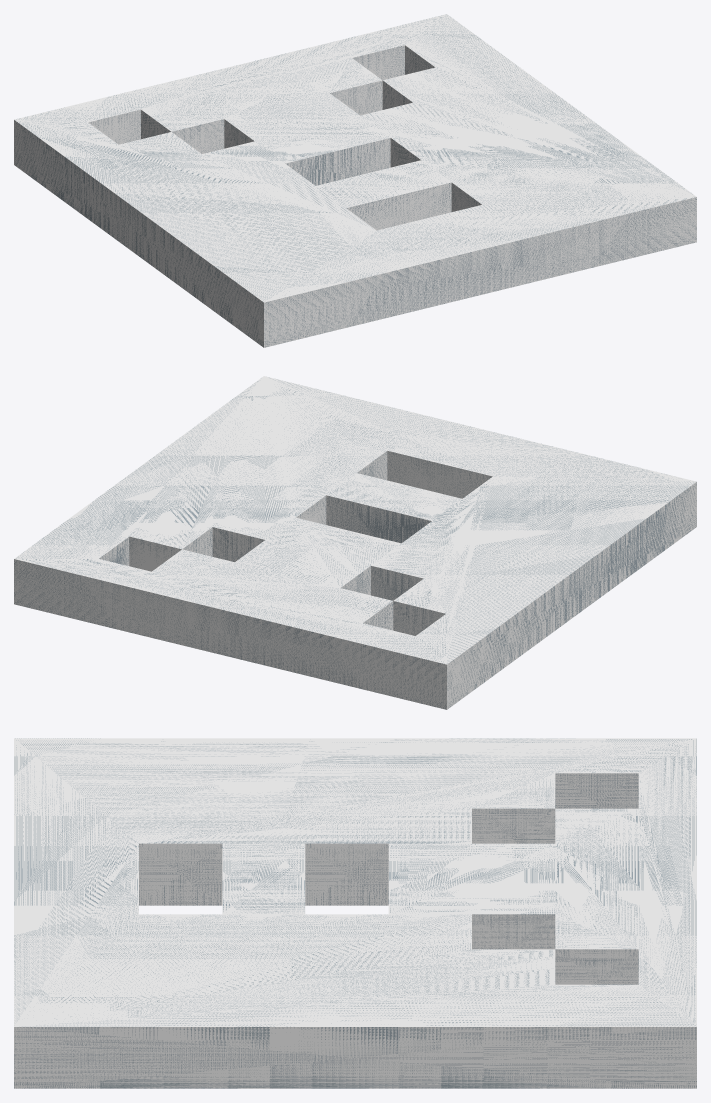
The picture shows the model from 3 angles, top to bottom: view 1: azimuth 30°, elevation 25°; view 2: azimuth 150°, elevation 25°; view 3: azimuth 270°, elevation 25°; orthographic projection. The views are drawn at different scales.
Parts seen in each view (by area): view 1: Model; view 2: Model; view 3: Model.
Boxes of the visible parts, x1,y1,x2,y2 form: Model: (14,14,696,347); Model: (14,376,696,709); Model: (14,738,696,1088).
Bounding box in the file's own units: 5 × 0.5 × 5.
